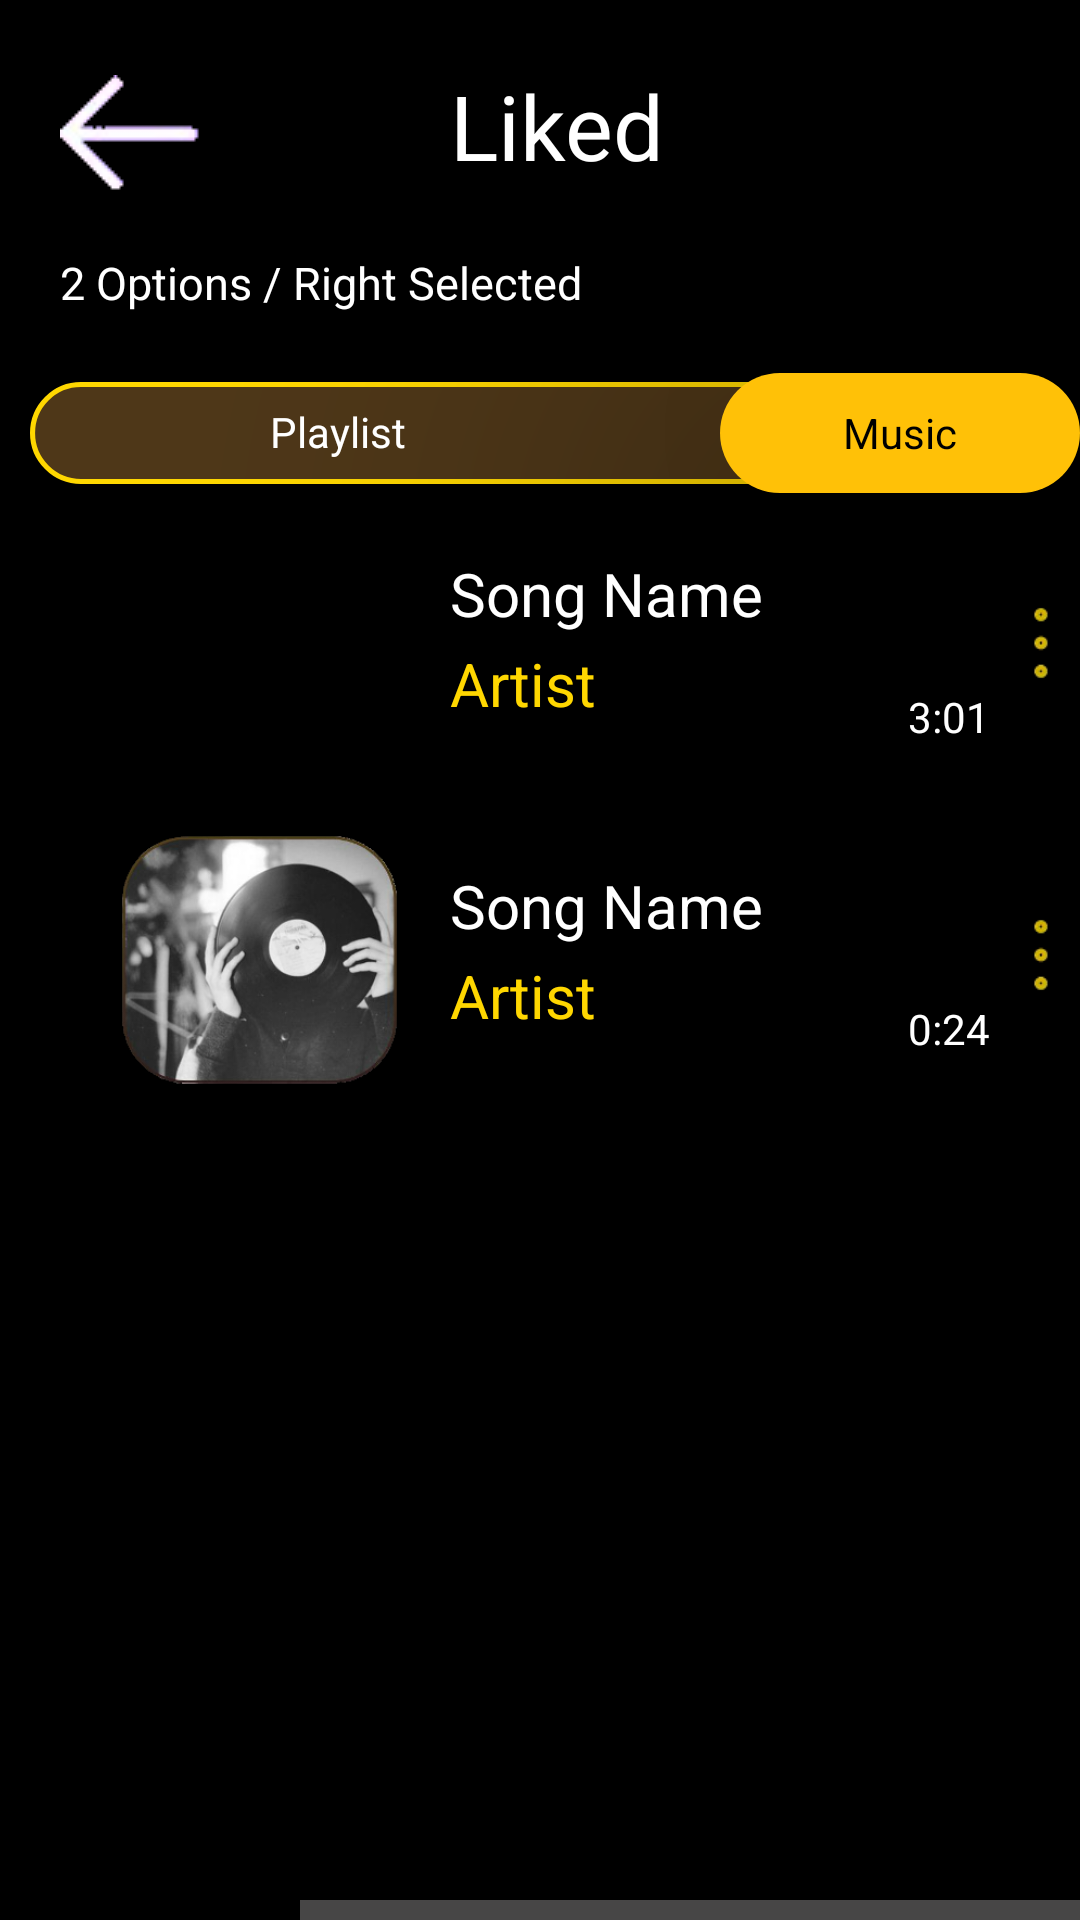

Icon bounding boxes for this 1080px x 1920px phone screenshot, format (x1, y1, x2, y2):
back: (60, 75, 199, 190)
disk: (122, 836, 397, 1084)
moreoptn: (1034, 608, 1048, 678), (1034, 920, 1048, 990)
